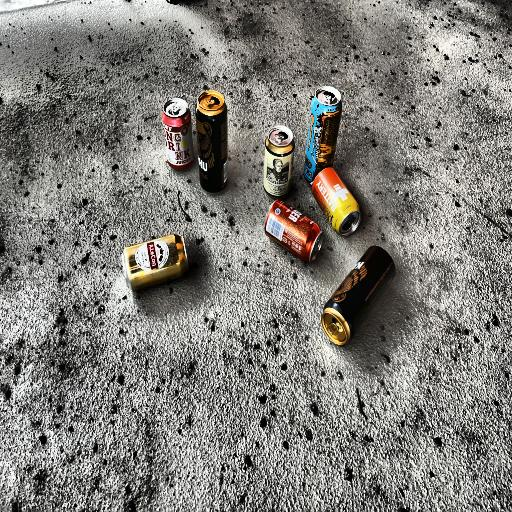A_LeCoq: (117, 230, 199, 294)
coop_larger: (260, 200, 325, 266)
karhu: (320, 240, 407, 358), (192, 83, 233, 199)
koff: (144, 94, 194, 182)
sandels: (253, 118, 302, 198)
